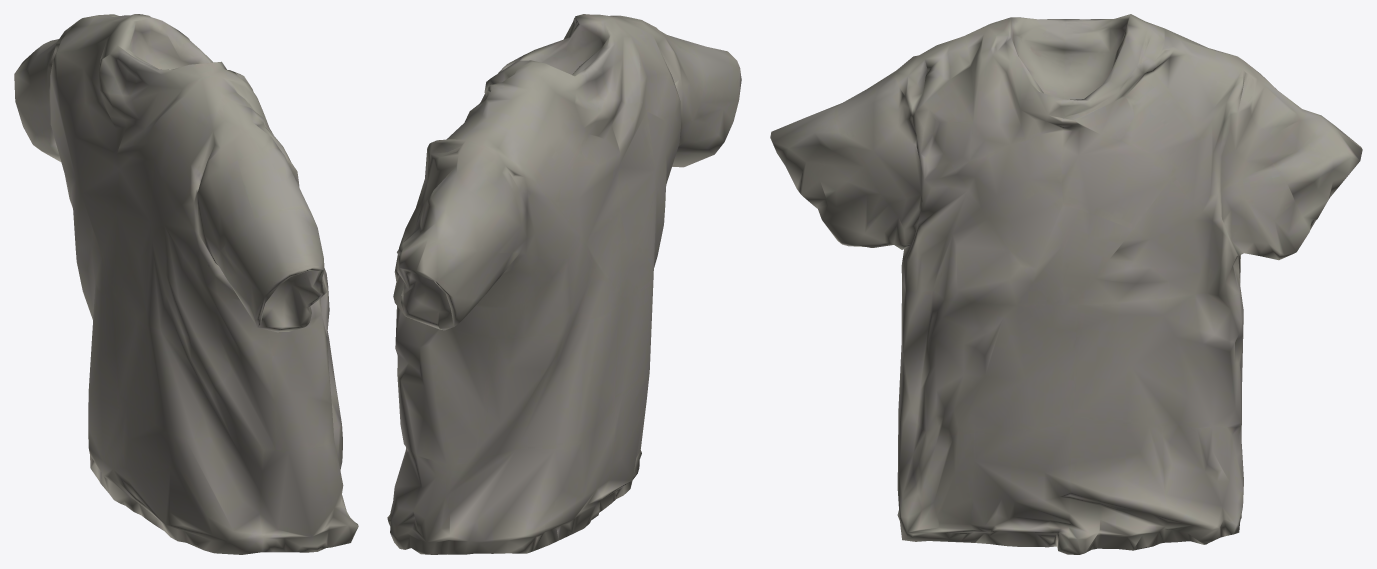
File: ivory.glb
3 renders of one model, left to right at view 1: azimuth 30°, elevation 25°; view 2: azimuth 150°, elevation 25°; view 3: azimuth 270°, elevation 25°, orthographic.
Visible parts, largest first — view 1: tripo_node_09a76843-bbcf-4518-a7ae-f2ee8b1d41b9; view 2: tripo_node_09a76843-bbcf-4518-a7ae-f2ee8b1d41b9; view 3: tripo_node_09a76843-bbcf-4518-a7ae-f2ee8b1d41b9.
Part boxes in pixels (box(x1,y1,x2,y2)): tripo_node_09a76843-bbcf-4518-a7ae-f2ee8b1d41b9: box(14, 14, 358, 554); tripo_node_09a76843-bbcf-4518-a7ae-f2ee8b1d41b9: box(387, 14, 741, 554); tripo_node_09a76843-bbcf-4518-a7ae-f2ee8b1d41b9: box(770, 14, 1362, 554).
Size of the model in its own units: 0.3626 by 0.8822 by 0.9991.
Materials: 1 (1 with a texture image).
